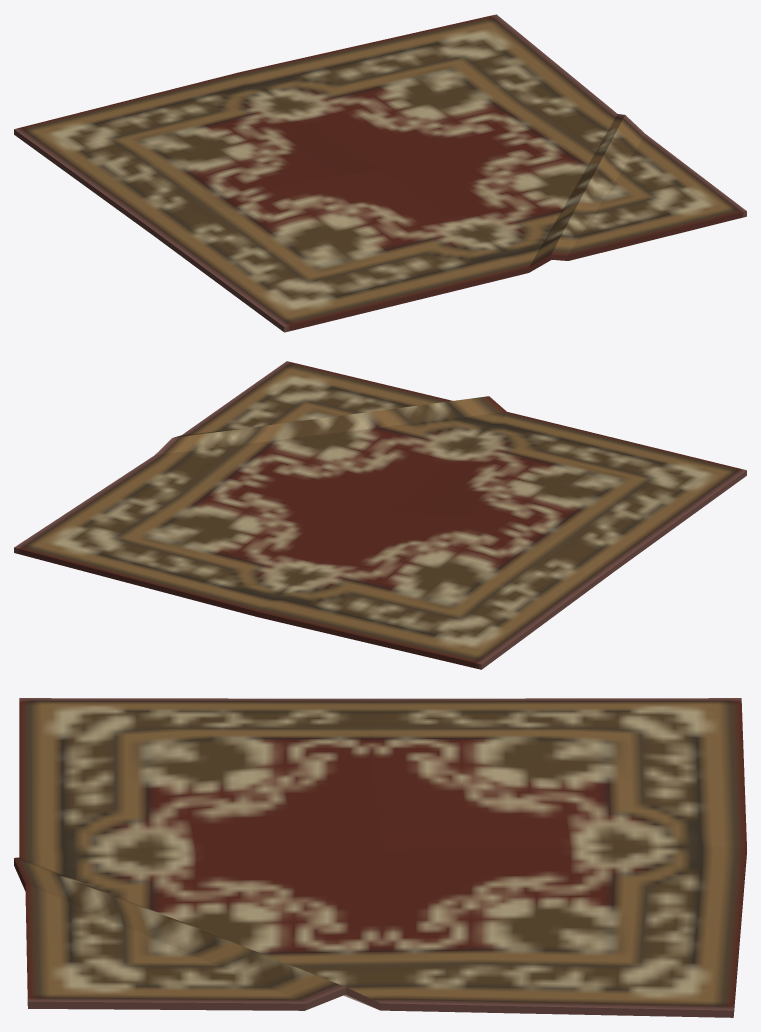
File: SM_Prop_Rug_23.fbx
The picture shows the model from 3 angles, top to bottom: view 1: azimuth 30°, elevation 25°; view 2: azimuth 150°, elevation 25°; view 3: azimuth 270°, elevation 25°; orthographic projection. The views are drawn at different scales.
Parts seen in each view (by area): view 1: SM_Prop_Rug_23; view 2: SM_Prop_Rug_23; view 3: SM_Prop_Rug_23.
Boxes of the visible parts, box(x1,y1,x2,y2) form: SM_Prop_Rug_23: box(14, 14, 746, 332); SM_Prop_Rug_23: box(14, 361, 746, 669); SM_Prop_Rug_23: box(14, 698, 746, 1017).
Size of the model in its own units: 309 by 11.99 by 306.
